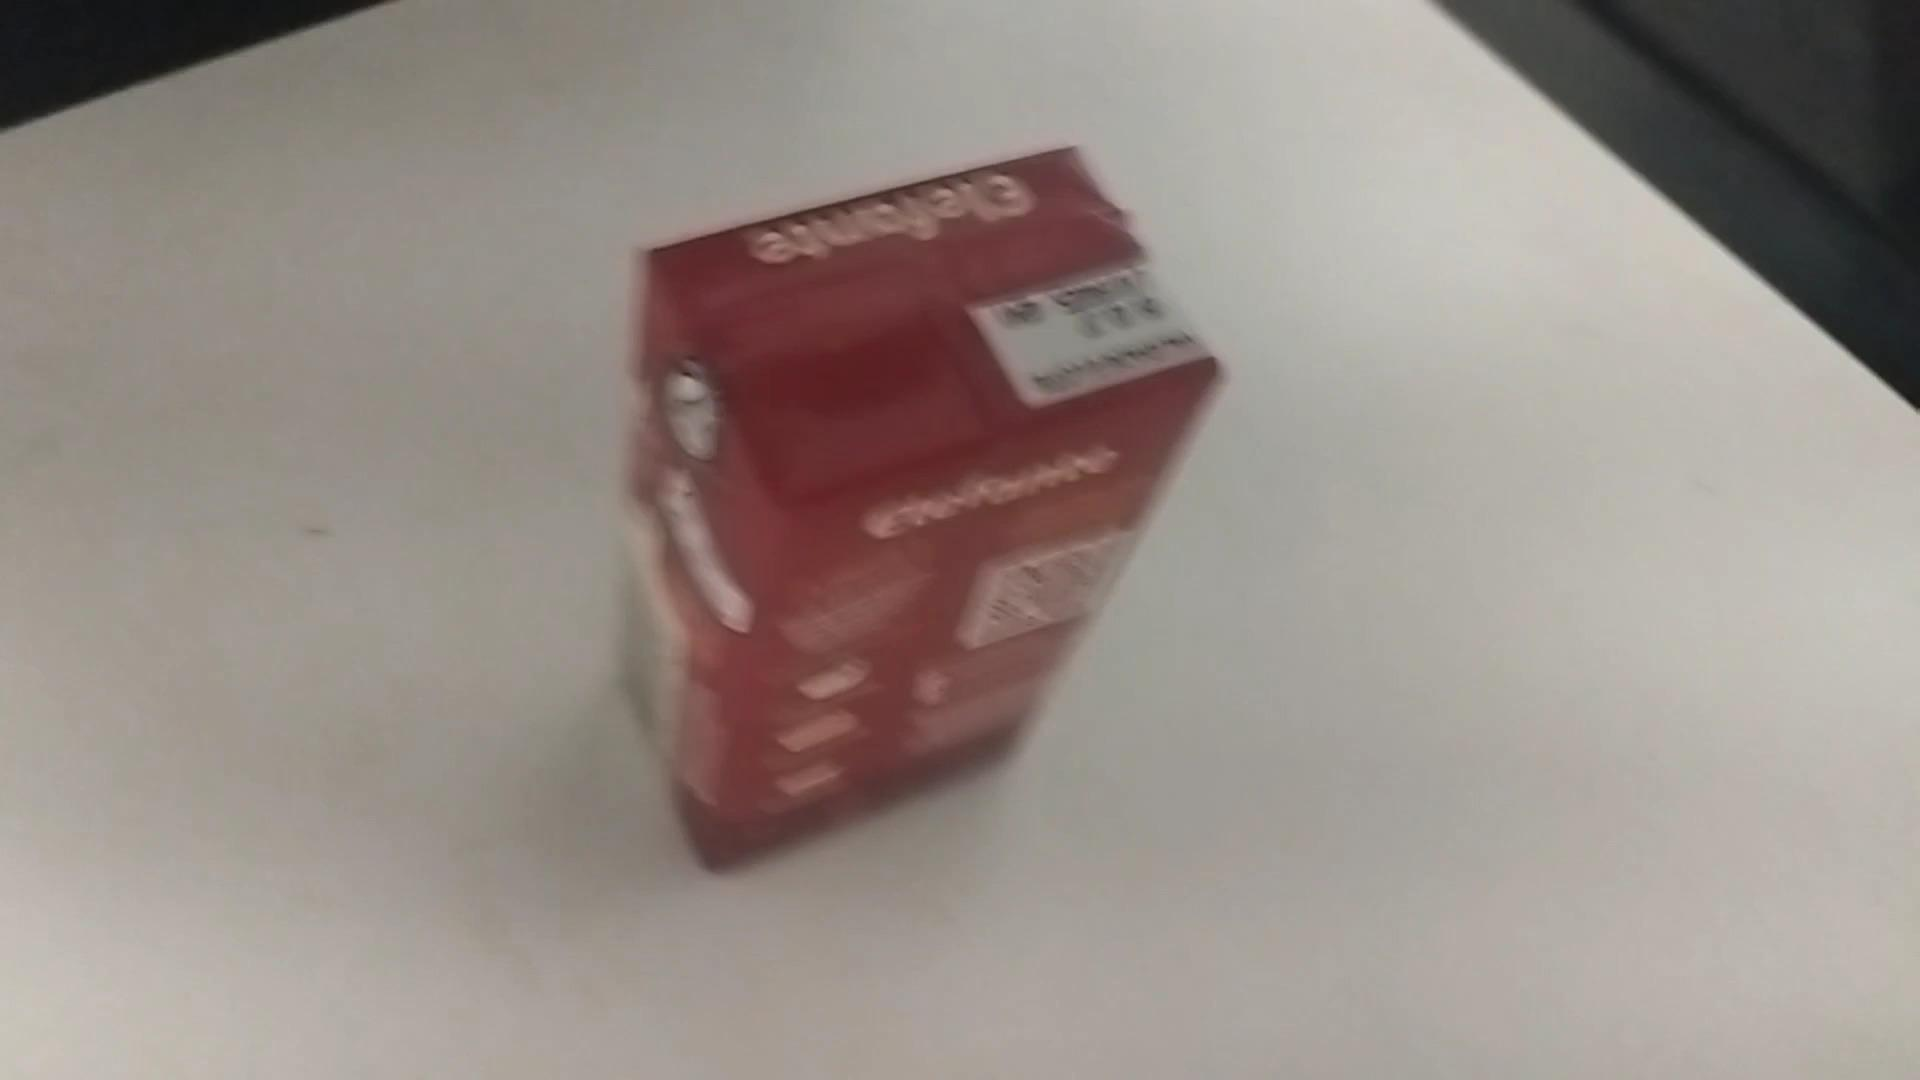tomate: (600, 129, 1253, 884)
